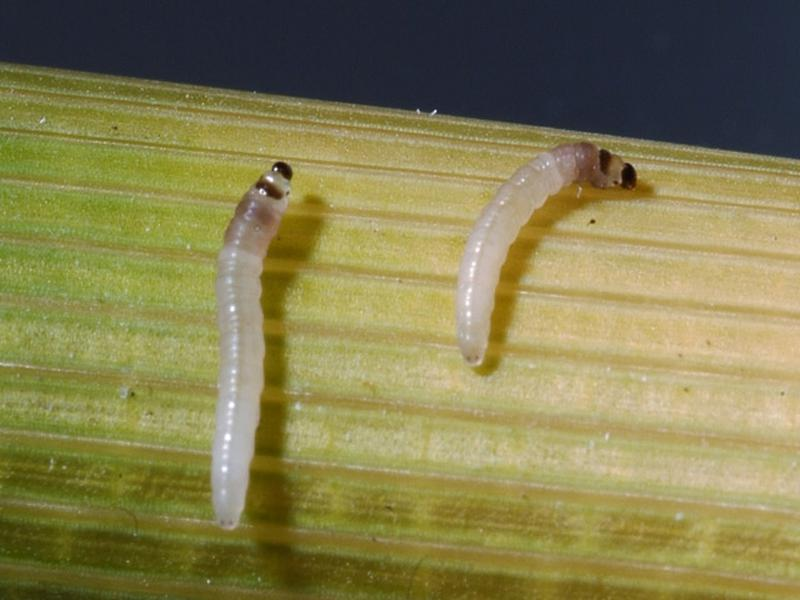Paddy_stemborer: (405, 127, 642, 395), (177, 154, 338, 536)
